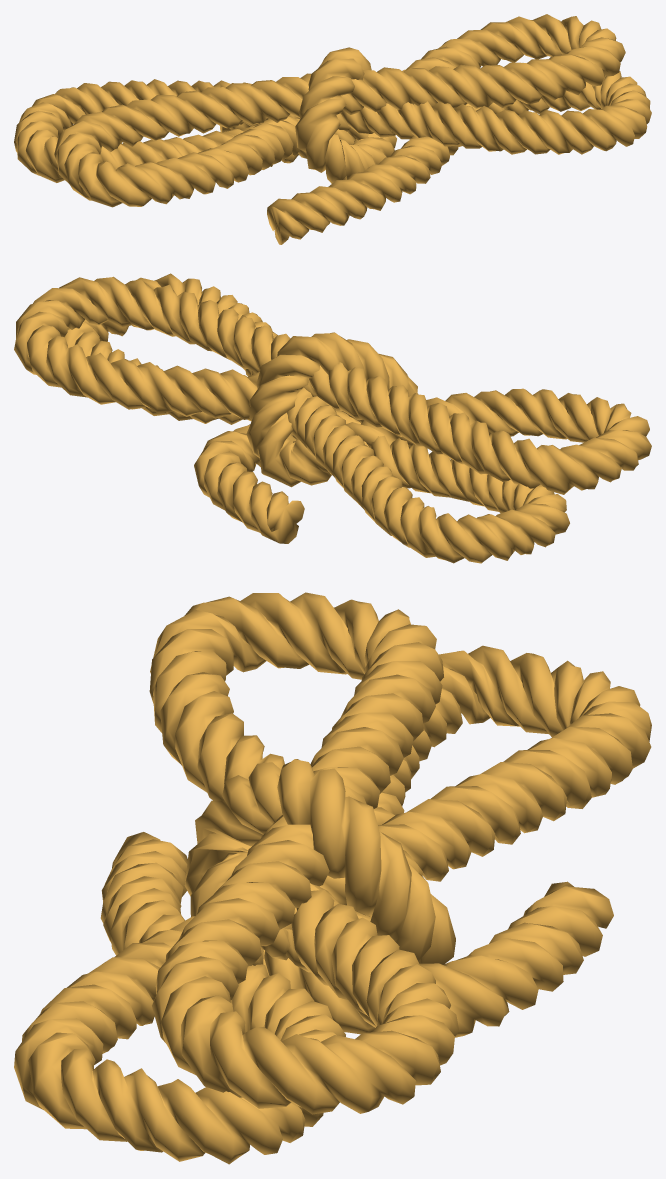
File: Rope.fbx
3 renders of one model, top to bottom at view 1: azimuth 30°, elevation 25°; view 2: azimuth 150°, elevation 25°; view 3: azimuth 270°, elevation 25°, orthographic. The views are drawn at different scales.
Visible parts, largest first — view 1: Rope; view 2: Rope; view 3: Rope.
Boxes of the visible parts, bbox=[...] form: Rope: bbox=[14, 14, 651, 244]; Rope: bbox=[14, 273, 651, 563]; Rope: bbox=[14, 592, 651, 1164].
Size of the model in its own units: 954 by 215 by 539.
